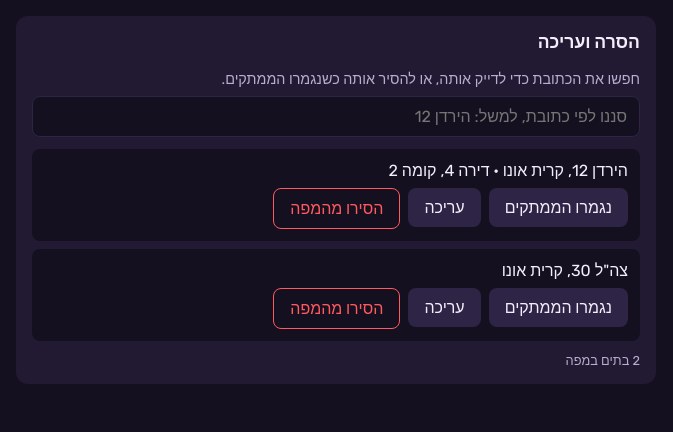
Test: HouseList › removes a house after confirming
Type "צהל" into the dropdown named "חפשו כתובת". click: (336, 116)
box: [32,96,640,137]
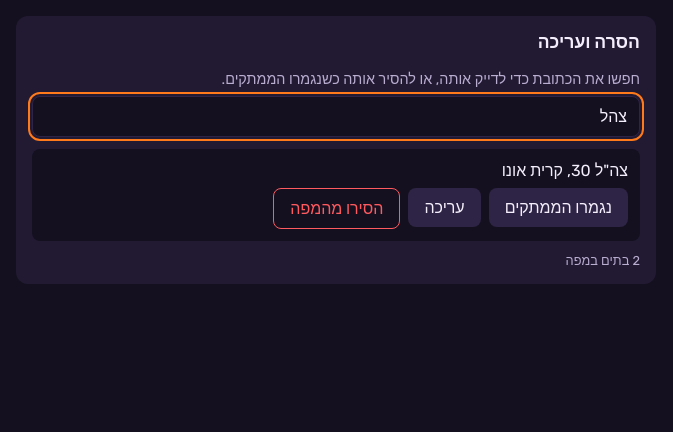
Click the button "הסירו מהמפה". click: (337, 208)
box: [273,188,400,229]
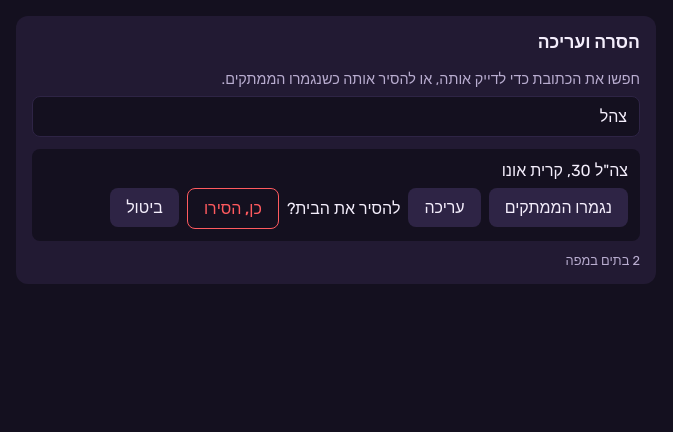
Click the button "כן, הסירו". click: (233, 208)
box: [187,188,279,229]
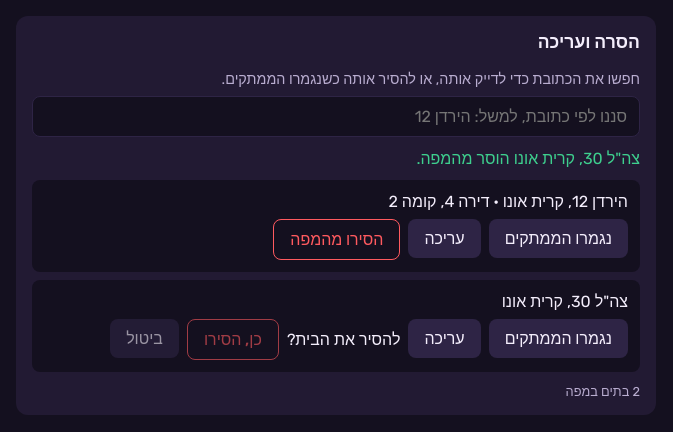
Expected: the text "צה\"ל 30, קרית אונו הוסר מהמפה." is shown, [416,149,640,168]
